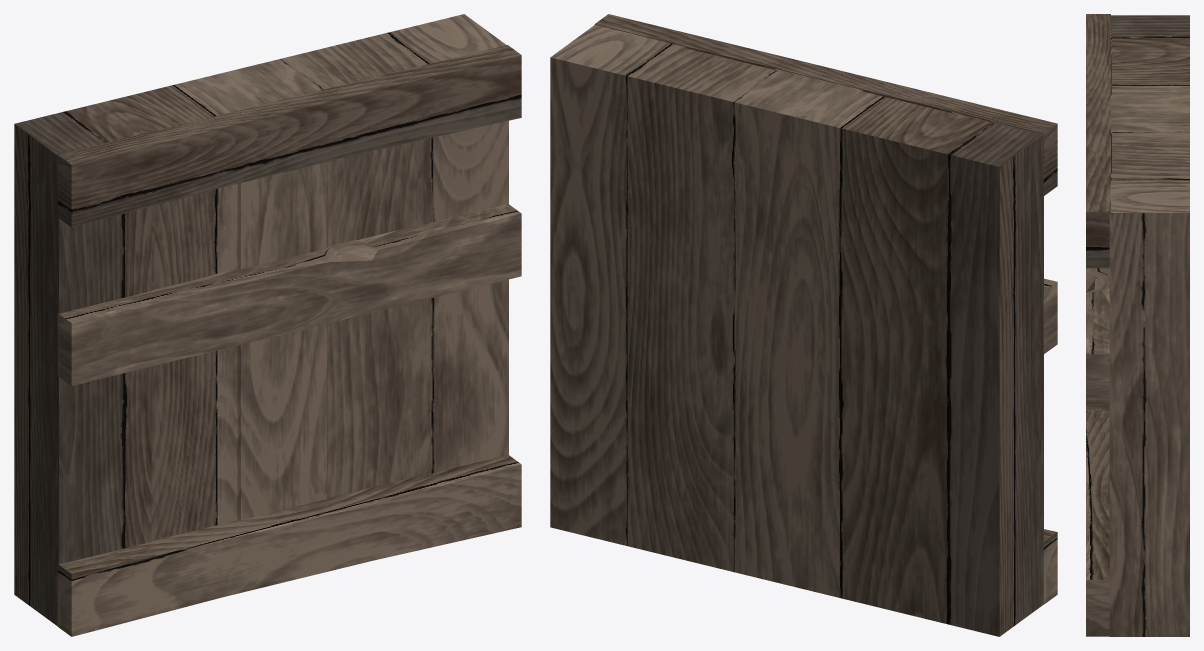
The model's file is SM_Wall_Small.fbx.
3 views of the same model, side by side, from view 1: azimuth 30°, elevation 25°; view 2: azimuth 150°, elevation 25°; view 3: azimuth 270°, elevation 25° (orthographic). The views are drawn at different scales.
Visible parts, largest first — view 1: SM_Wall_Small; view 2: SM_Wall_Small; view 3: SM_Wall_Small.
Part boxes in pixels (x1,y1,x2,y2): SM_Wall_Small: (14,14,521,636); SM_Wall_Small: (550,14,1057,636); SM_Wall_Small: (1086,14,1189,636).
Bounding box in the file's own units: 150 × 150 × 33.35.
